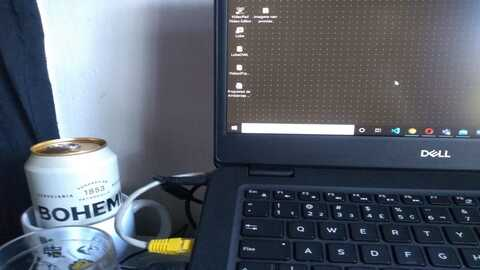bohemia: (16, 138, 125, 227)
